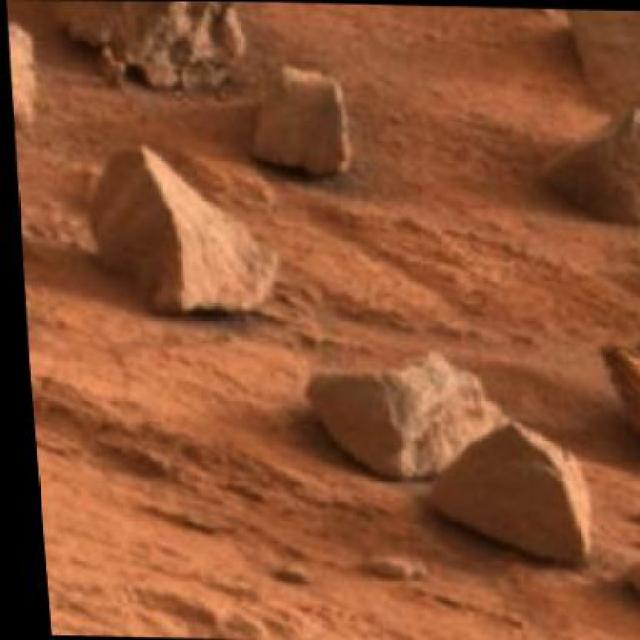rock: (77, 139, 281, 313), (301, 340, 508, 488), (412, 421, 596, 568), (20, 0, 260, 97), (522, 97, 638, 232), (242, 67, 353, 171), (563, 6, 639, 146), (5, 14, 49, 132), (612, 530, 638, 638), (15, 239, 31, 343)
